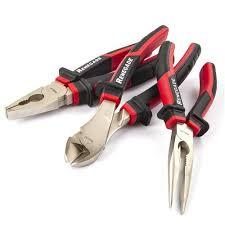pliers: (62, 23, 200, 167), (4, 40, 165, 120), (155, 40, 216, 214)
